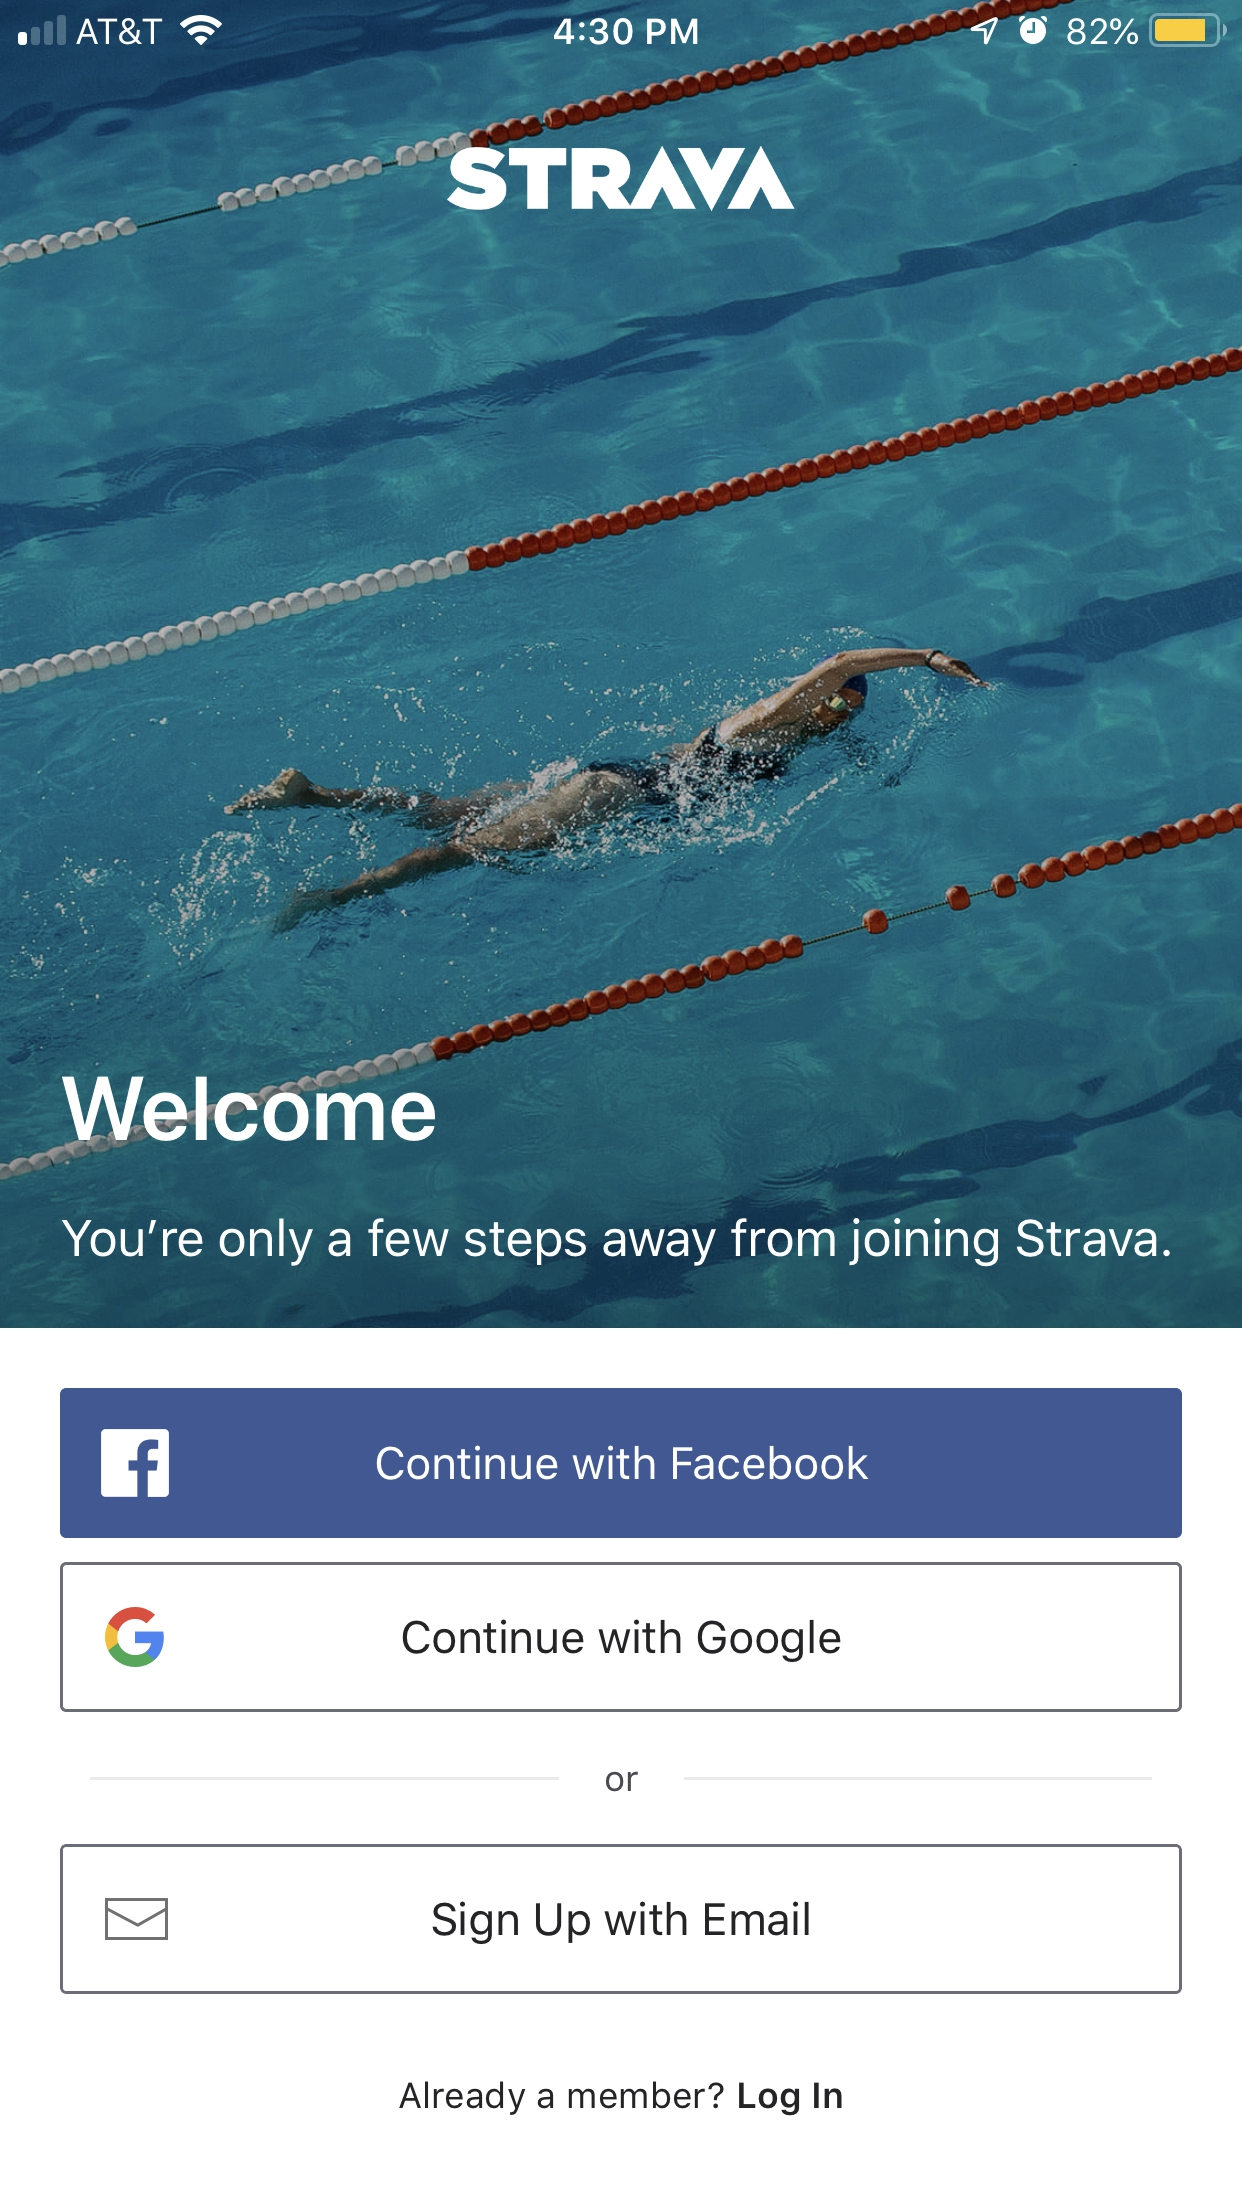Image: (2, 2, 1242, 1328), (447, 147, 795, 212)
Text: (61, 1218, 1171, 1268), (61, 1075, 437, 1142), (397, 2081, 843, 2115), (607, 1771, 638, 1792)
TextButton: (61, 1388, 1183, 1539), (61, 1562, 1183, 1714), (61, 1844, 1183, 1996)
UpperTaskBar: (2, 2, 1242, 49)
